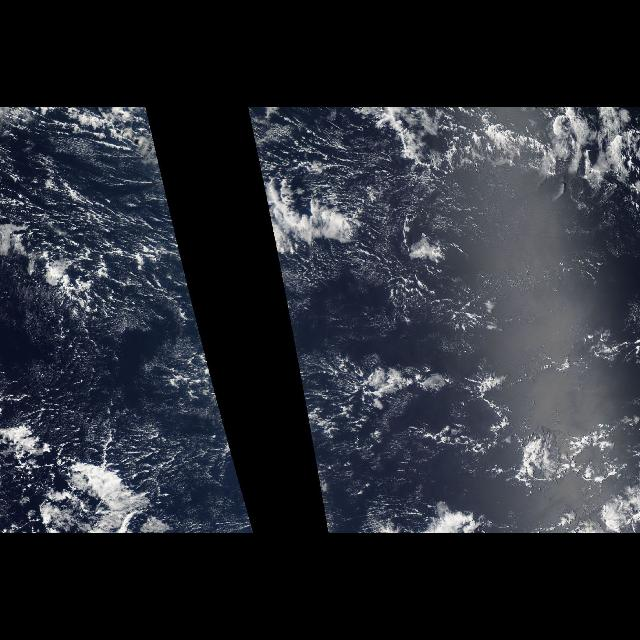Fish: (258, 108, 640, 294)
Gravel: (19, 316, 212, 464), (342, 263, 528, 365)
Sugar: (0, 116, 252, 524), (248, 116, 462, 524)
